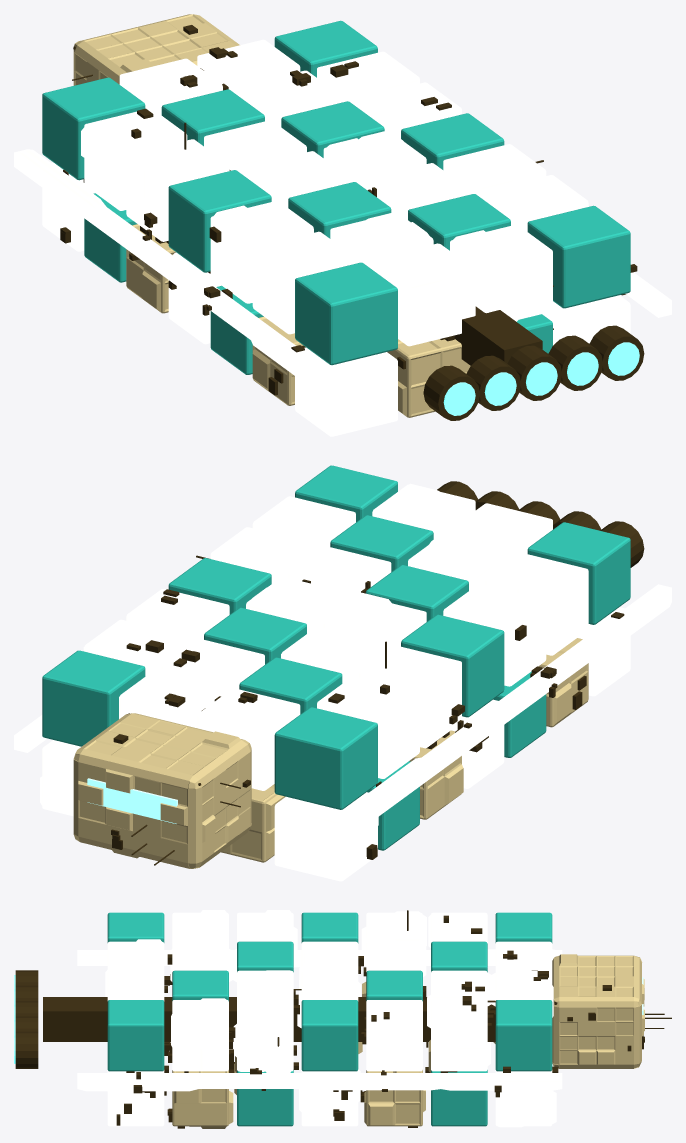
File: orrun_huge.glb
3 renders of one model, top to bottom at view 1: azimuth 30°, elevation 25°; view 2: azimuth 150°, elevation 25°; view 3: azimuth 270°, elevation 25°, orthographic. The views are drawn at different scales.
Parts seen in each view (by area): view 1: orrun_huge; view 2: orrun_huge; view 3: orrun_huge.
Boxes of the visible parts, left/top/right/bottom form: orrun_huge: left=14, top=14, right=671, bottom=436; orrun_huge: left=14, top=465, right=671, bottom=881; orrun_huge: left=14, top=910, right=671, bottom=1128.
Bounding box in the file's own units: 4.94 × 2.26 × 10.45.
